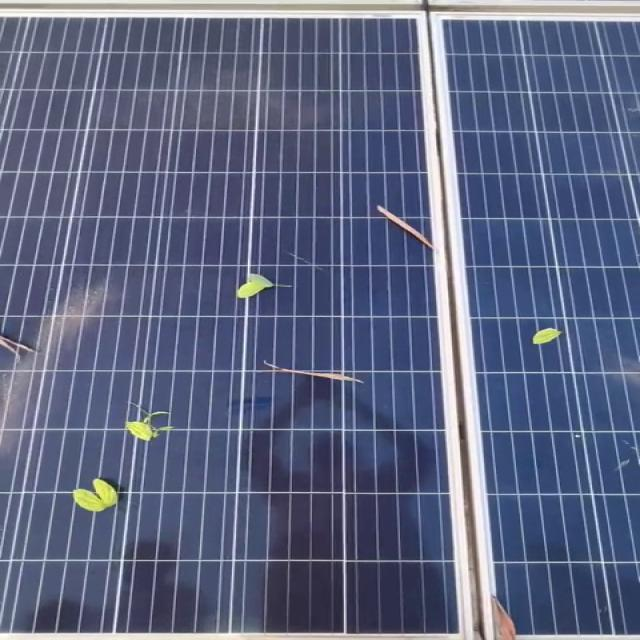bird_dropping: (598, 441, 632, 476)
dust_partical: (112, 87, 410, 131), (0, 369, 55, 401)
old_leaf: (203, 255, 375, 390), (48, 408, 184, 509), (336, 175, 476, 250), (522, 330, 572, 344)
